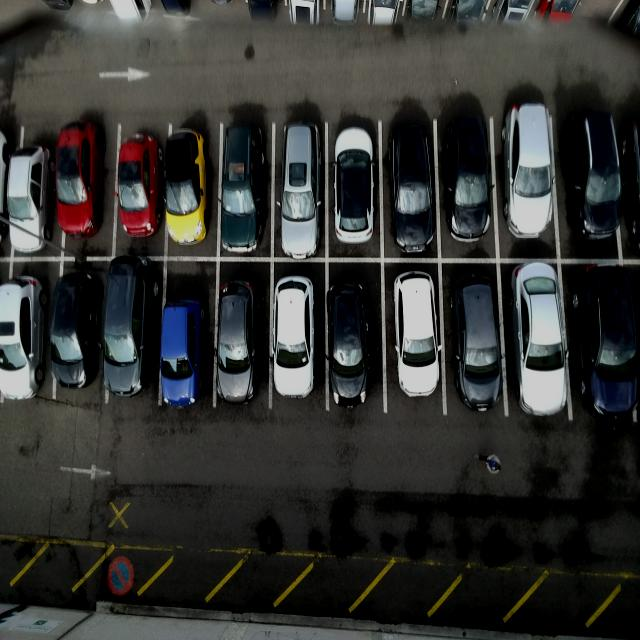car: (577, 263, 636, 424), (103, 254, 164, 399), (514, 263, 569, 418), (505, 100, 556, 240), (452, 273, 501, 415), (571, 113, 624, 243), (219, 123, 267, 258), (278, 119, 323, 262), (50, 271, 103, 392), (271, 272, 319, 402), (56, 119, 108, 237), (396, 269, 441, 403), (390, 122, 435, 255), (215, 276, 260, 406), (164, 129, 214, 246), (329, 279, 372, 412), (448, 118, 492, 247), (1, 273, 45, 401), (159, 297, 210, 407), (334, 123, 377, 251), (6, 143, 54, 252), (117, 132, 165, 240)
